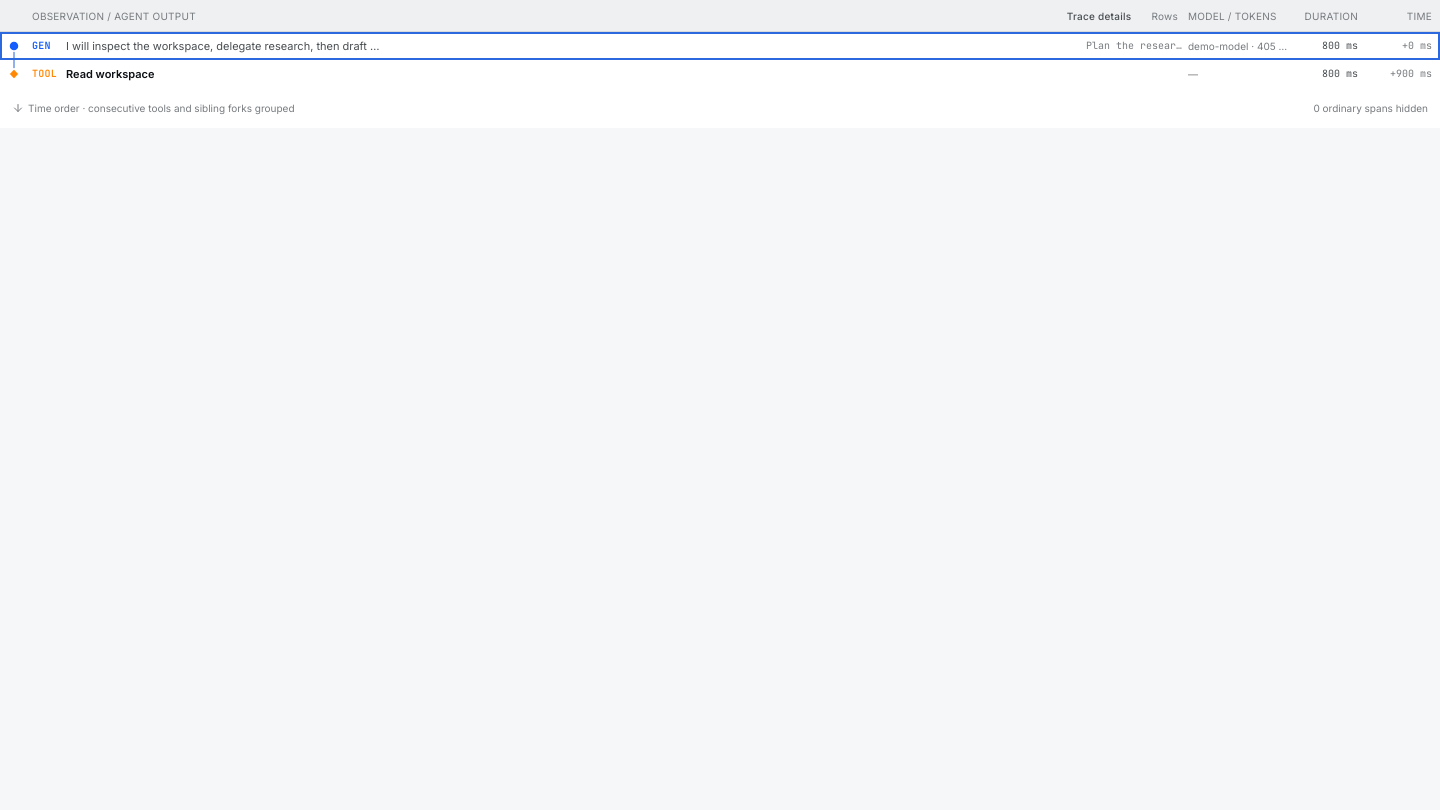
Test: trace graph floating details › loads details on click, keeps the graph mounted, switches items, and closes with Escape
This screenshot has width=1440, height=810.
Click the button with aria-label "Plan the research I will inspect the workspace, delegate res". click: point(223, 46)
box: x1=0 y1=32 x2=1439 y2=60
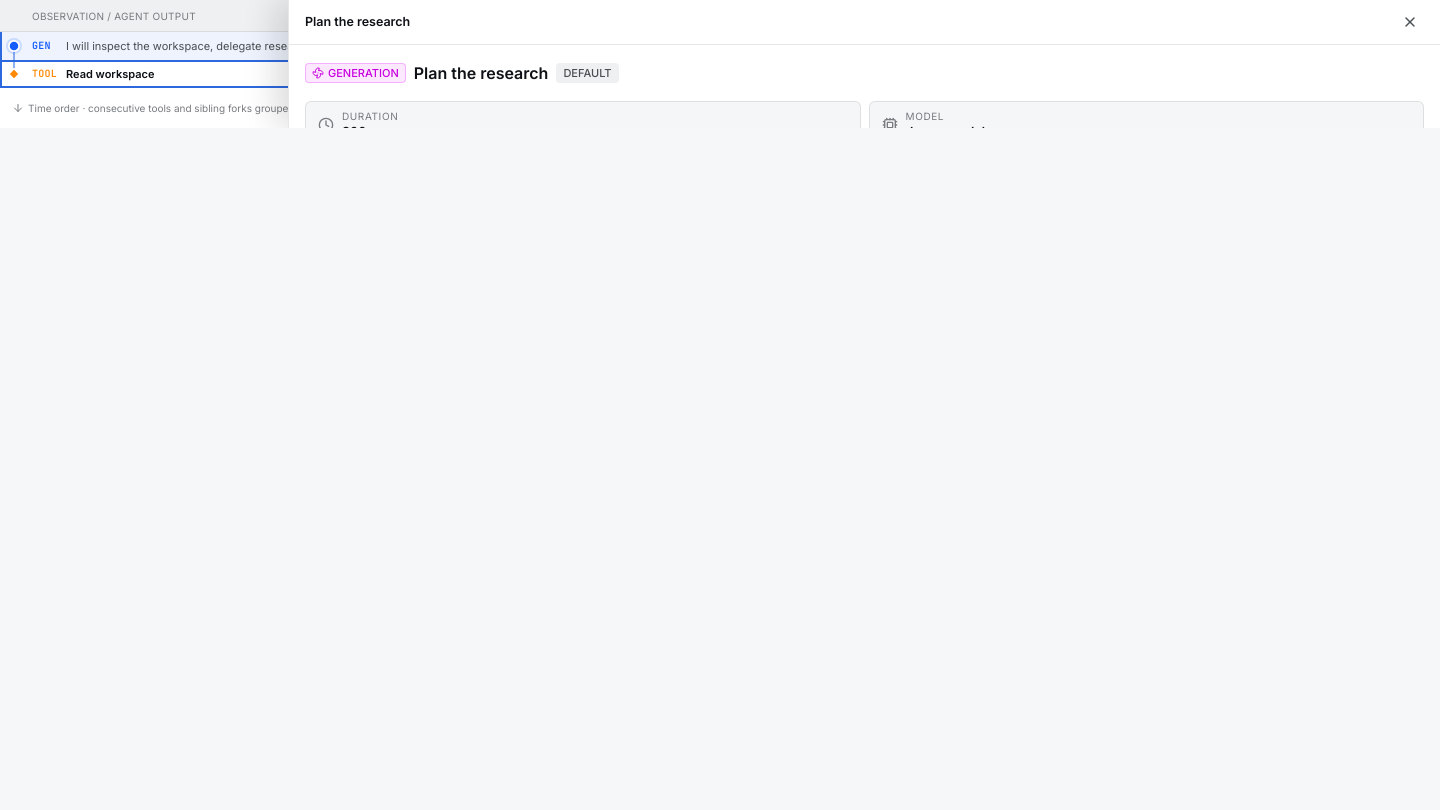
Expected: the dialog "Plan the research" is shown, x1=288 y1=0 x2=1439 y2=128
Click the button "TOOL Read workspace — 800 ms +900 ms". click: point(110, 74)
box: x1=0 y1=60 x2=1439 y2=88
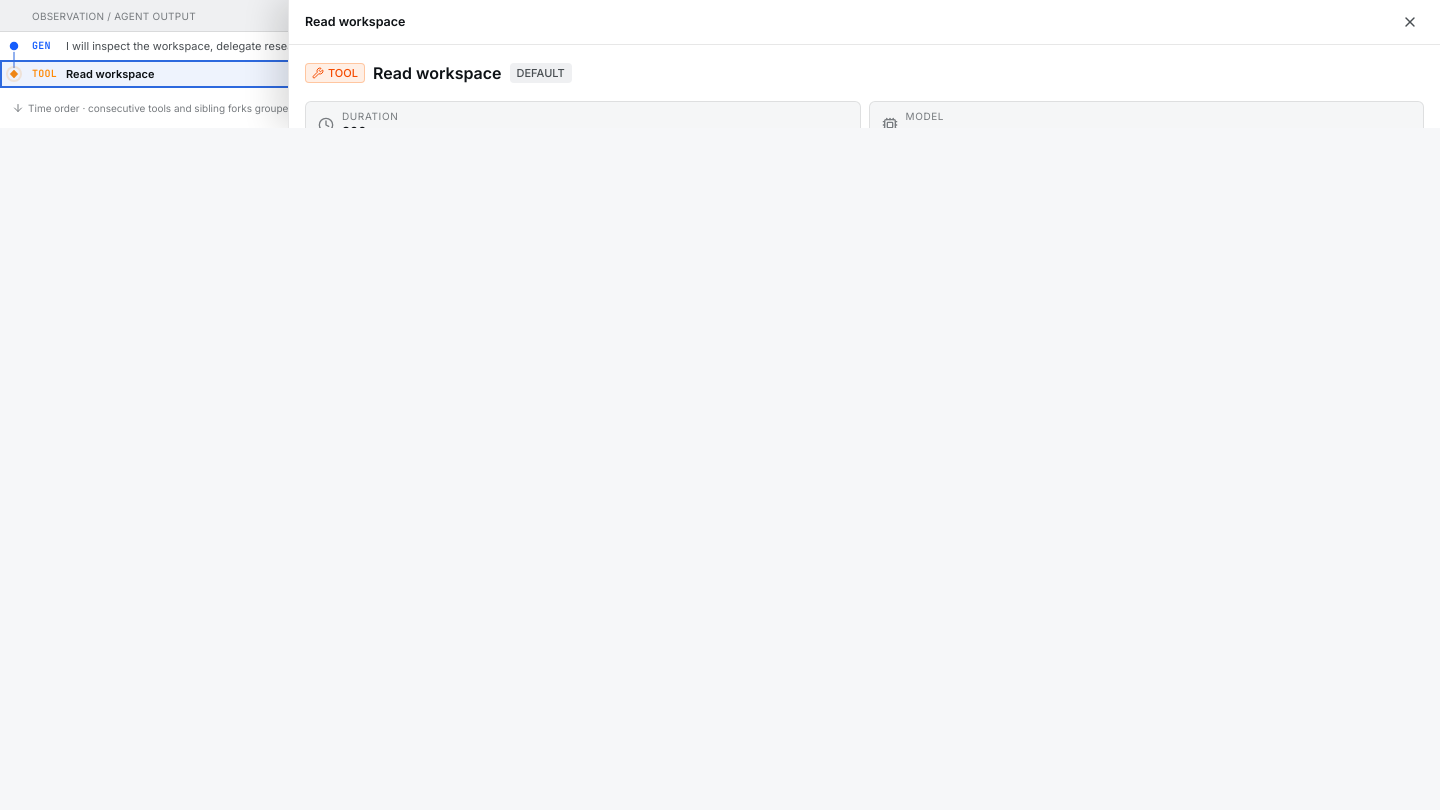
Expected: the dialog "Read workspace" is shown
Press Escape in the dialog, box x1=288 y1=0 x2=1439 y2=128
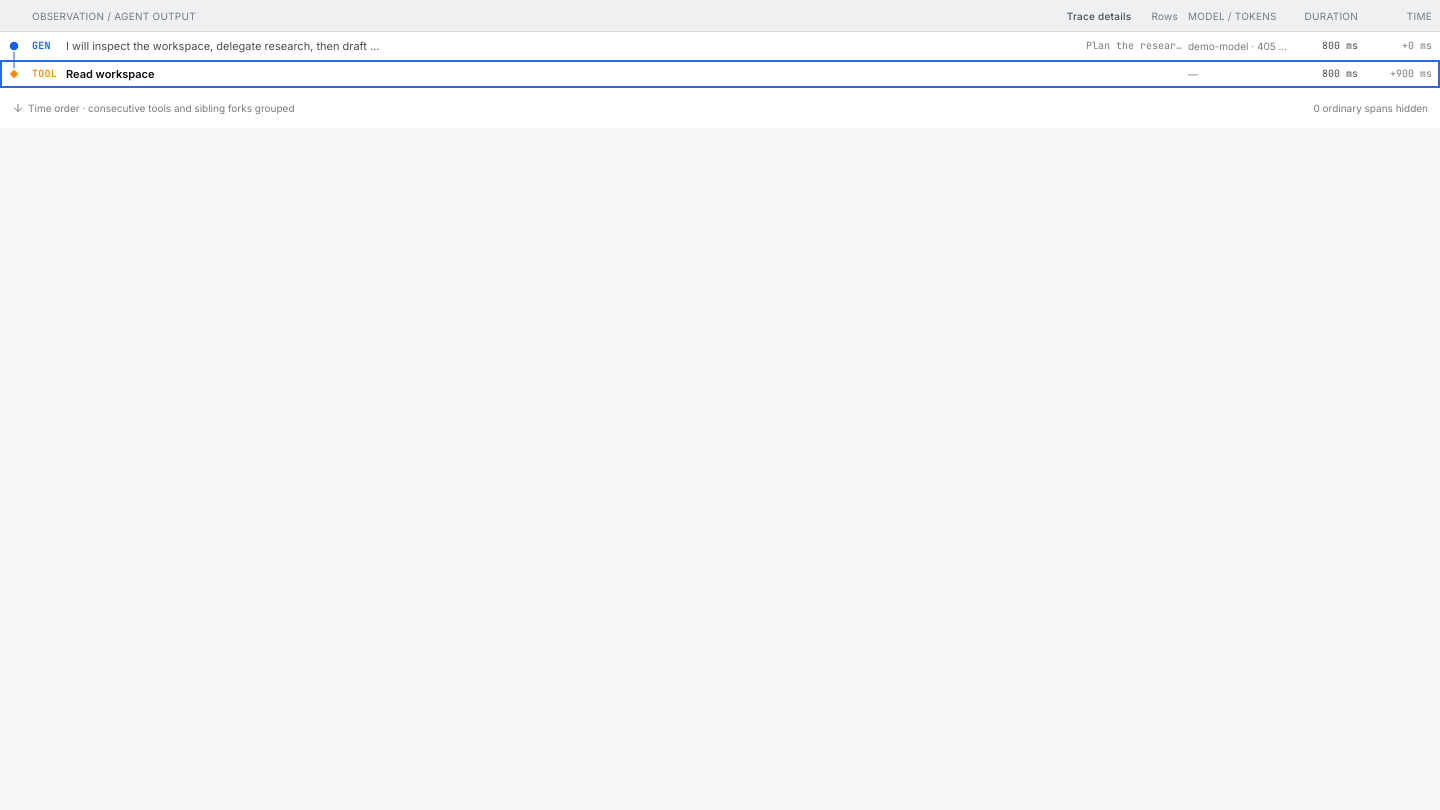
Expected: the dialog is gone
